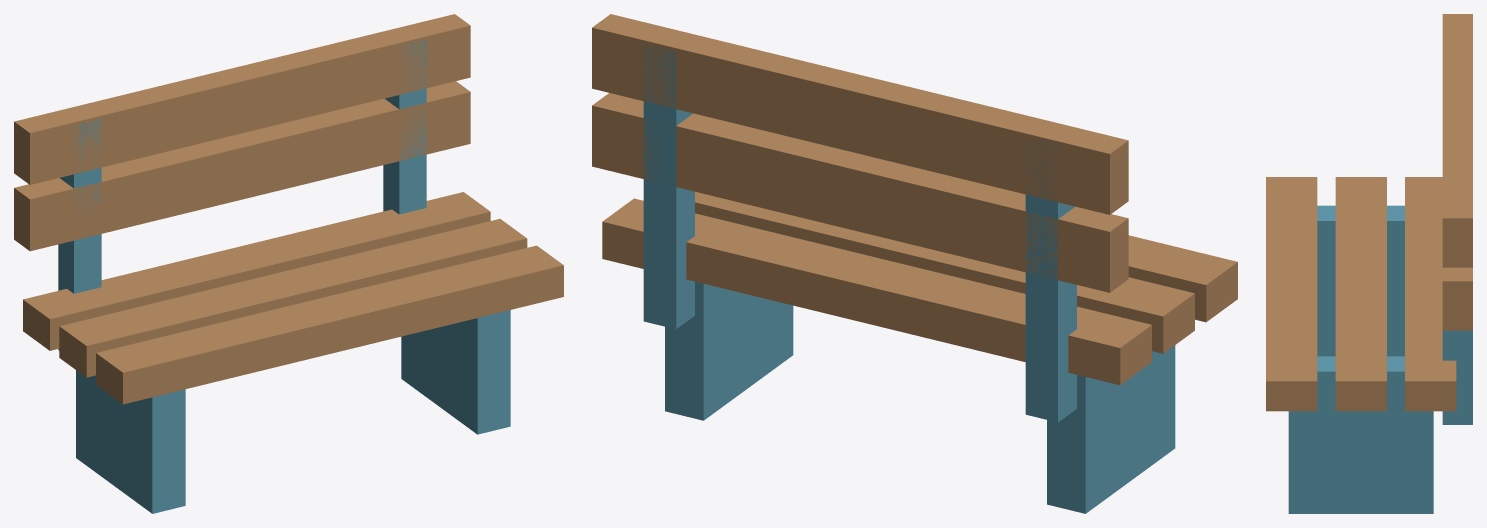
Rendered from bench.glb.
3 views of the same model, side by side, from view 1: azimuth 30°, elevation 25°; view 2: azimuth 150°, elevation 25°; view 3: azimuth 270°, elevation 25° (orthographic). The views are drawn at different scales.
Visible parts, largest first — view 1: Back plank.001, Back plank, Seat plank, Seat plank.001, Seat plank.002, Leg.004, Leg.005, Back support.001, Back support; view 2: Back plank.001, Back plank, Seat plank.002, Leg.004, Leg.005, Seat plank.001, Back support.001, Back support, Seat plank; view 3: Leg.005, Seat plank, Seat plank.001, Seat plank.002, Back plank.001, Leg.004, Back support.001, Back plank.
Boxes of the visible parts, left/top/right/bottom form: Back plank.001: left=14, top=14, right=470, bottom=184; Back plank: left=14, top=81, right=470, bottom=251; Seat plank: left=96, top=245, right=563, bottom=404; Seat plank.001: left=59, top=219, right=527, bottom=377; Seat plank.002: left=23, top=192, right=490, bottom=350; Leg.004: left=76, top=370, right=185, bottom=513; Leg.005: left=401, top=310, right=510, bottom=434; Back support.001: left=383, top=39, right=426, bottom=214; Back support: left=58, top=119, right=101, bottom=350; Back plank.001: left=592, top=14, right=1128, bottom=214; Back plank: left=592, top=93, right=1128, bottom=292; Seat plank.002: left=602, top=198, right=1151, bottom=385; Leg.004: left=1047, top=345, right=1175, bottom=513; Leg.005: left=665, top=281, right=793, bottom=420; Seat plank.001: left=695, top=191, right=1194, bottom=353; Back support.001: left=643, top=44, right=694, bottom=329; Back support: left=1025, top=137, right=1076, bottom=422; Seat plank: left=1128, top=235, right=1237, bottom=322; Leg.005: left=1288, top=356, right=1433, bottom=513; Seat plank: left=1266, top=177, right=1317, bottom=411; Seat plank.001: left=1335, top=177, right=1386, bottom=411; Seat plank.002: left=1405, top=177, right=1456, bottom=411; Back plank.001: left=1442, top=14, right=1472, bottom=267; Leg.004: left=1317, top=205, right=1404, bottom=356; Back support.001: left=1442, top=330, right=1472, bottom=424; Back plank: left=1442, top=267, right=1472, bottom=330.
Size of the model in its own units: 1.6 by 1.15 by 0.685.
